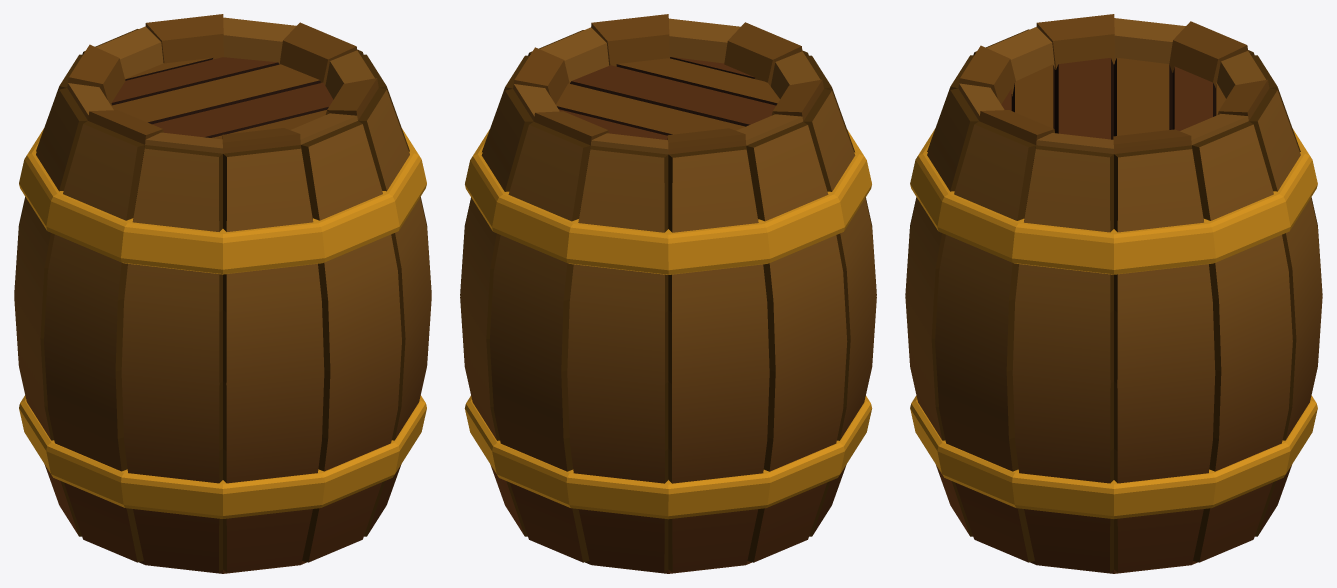
Rendered from WoodBarrel01.fbx.
3 renders of one model, left to right at view 1: azimuth 30°, elevation 25°; view 2: azimuth 150°, elevation 25°; view 3: azimuth 270°, elevation 25°, orthographic.
Visible parts, largest first — view 1: LOD0; view 2: LOD0; view 3: LOD0.
Boxes of the visible parts, x1,y1,x2,y2 form: LOD0: (14, 14, 431, 573); LOD0: (460, 14, 876, 573); LOD0: (905, 14, 1322, 573).
Size of what is drawn, in the model's own units: 127 by 127 by 145.
